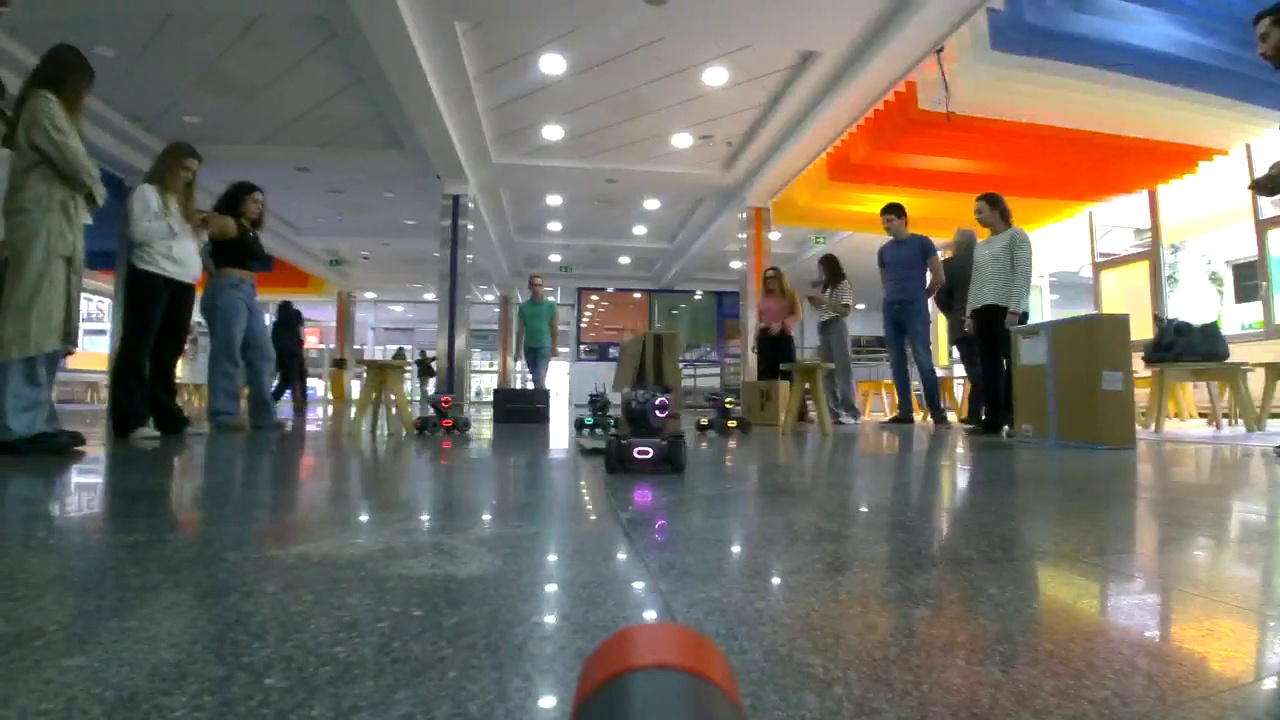robot: (606, 390, 689, 470), (694, 392, 751, 436), (415, 392, 467, 434), (578, 394, 620, 431)
